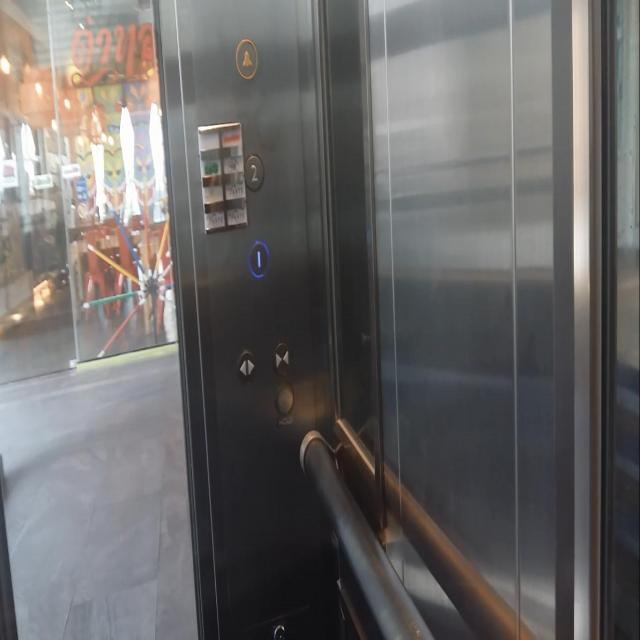1: (246, 238, 269, 281)
2: (243, 151, 265, 192)
alarm: (234, 36, 258, 82)
close: (271, 342, 290, 376)
empty: (274, 380, 292, 414)
open: (236, 348, 256, 386)
